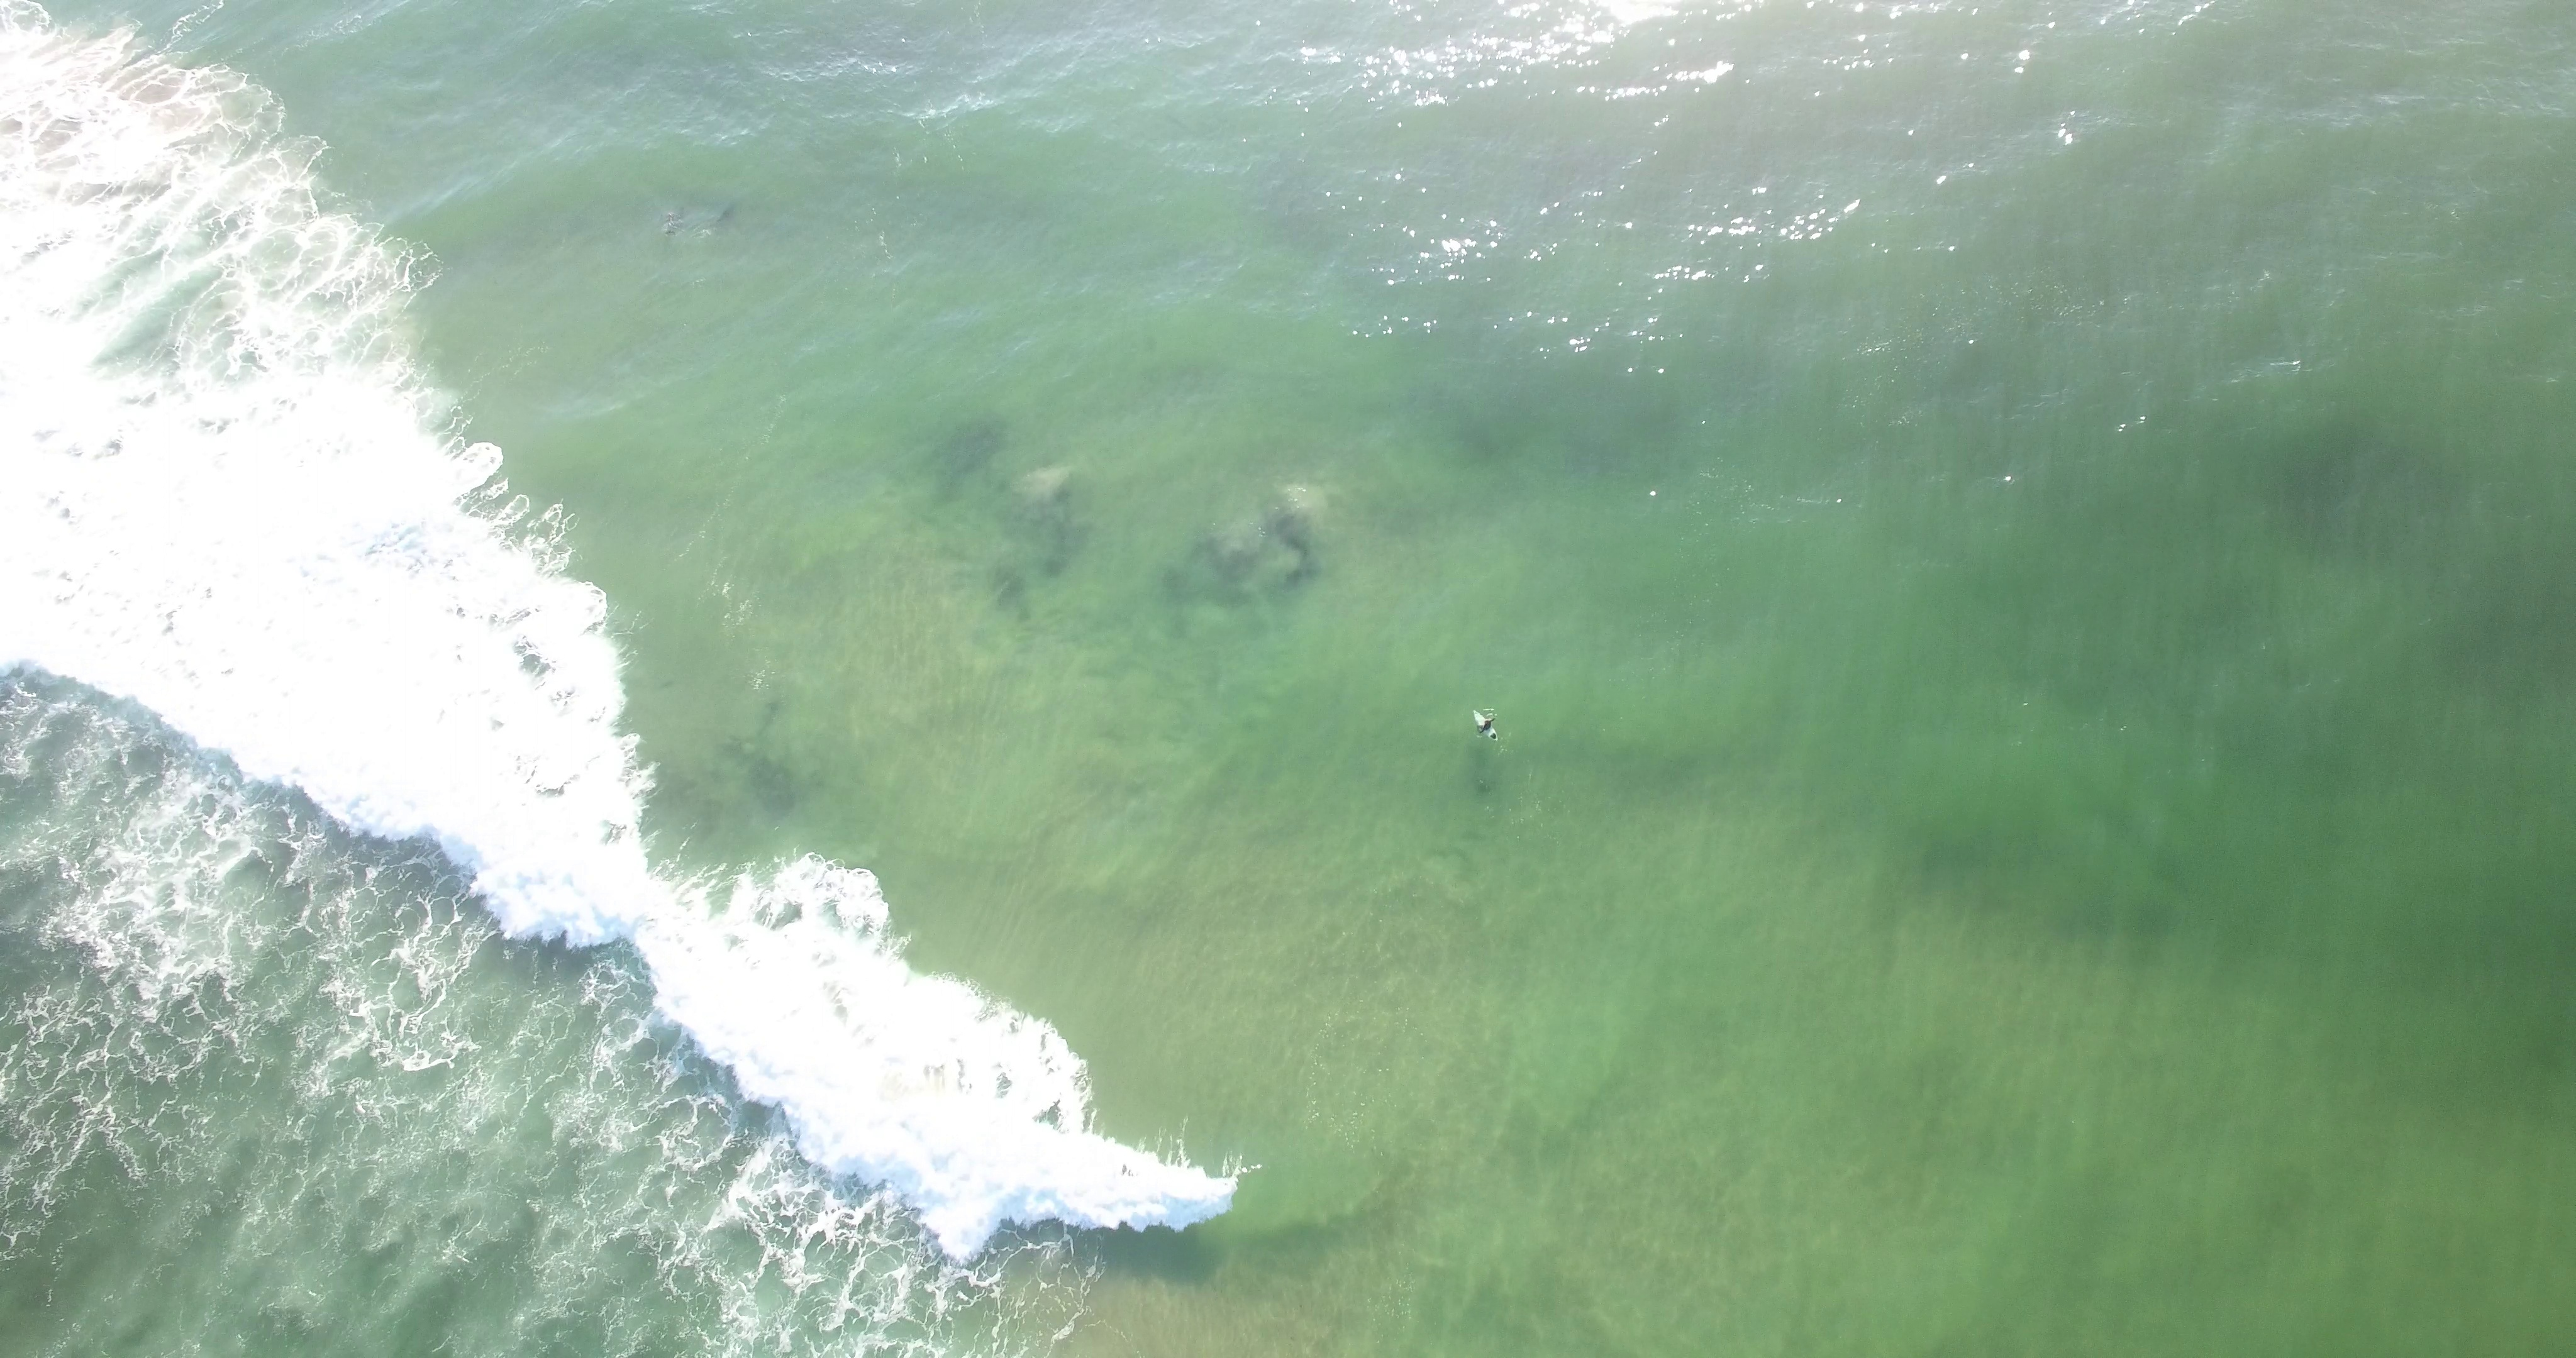dolphin: (702, 199, 738, 237)
surfer: (1470, 709, 1501, 741)
